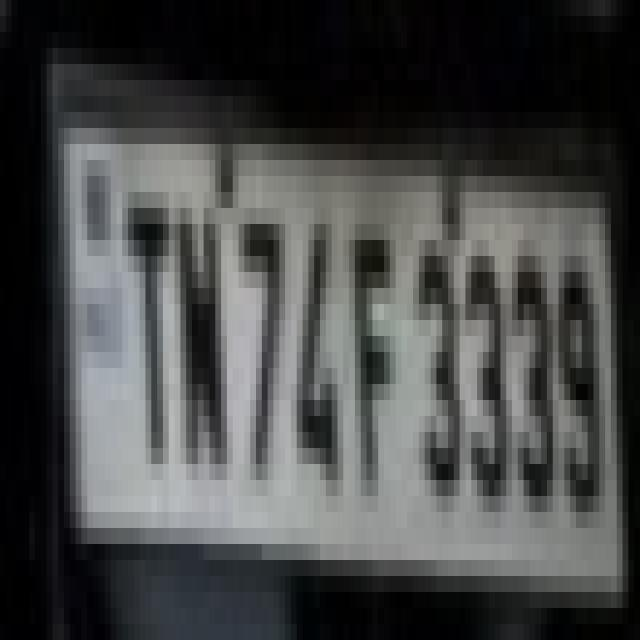3: (414, 230, 462, 502), (511, 257, 556, 503), (465, 246, 507, 503)
4: (294, 212, 344, 494)
7: (240, 205, 280, 484)
9: (560, 270, 604, 524)
F: (348, 227, 395, 500)
N: (173, 201, 231, 489)
T: (125, 186, 171, 469)
